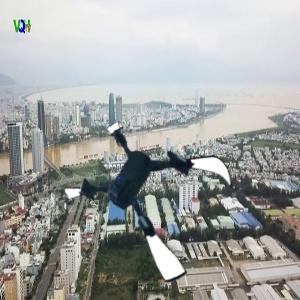drone: (70, 117, 236, 283)
